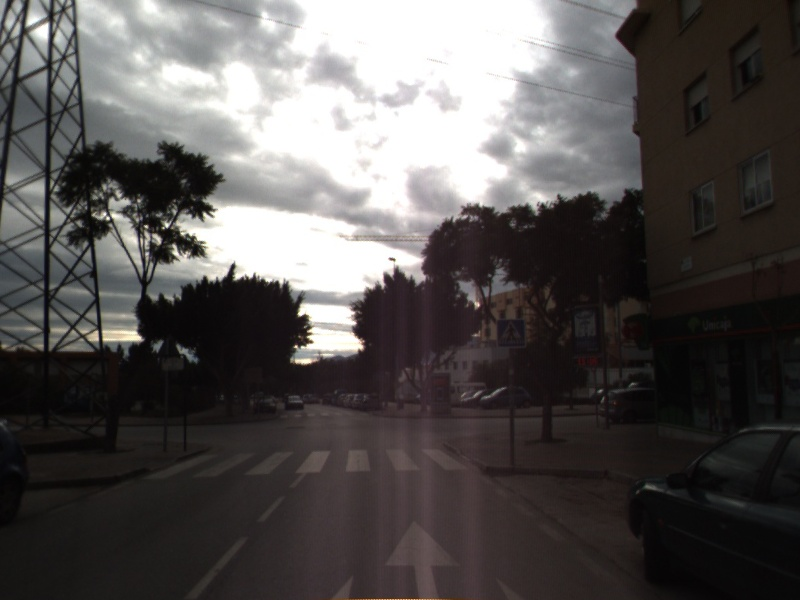STRAIGHT: (381, 516, 465, 600)
